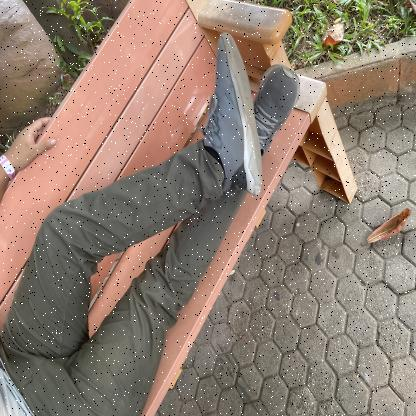hand: (0, 92, 66, 180)
leg: (155, 18, 266, 220), (248, 48, 310, 162)
